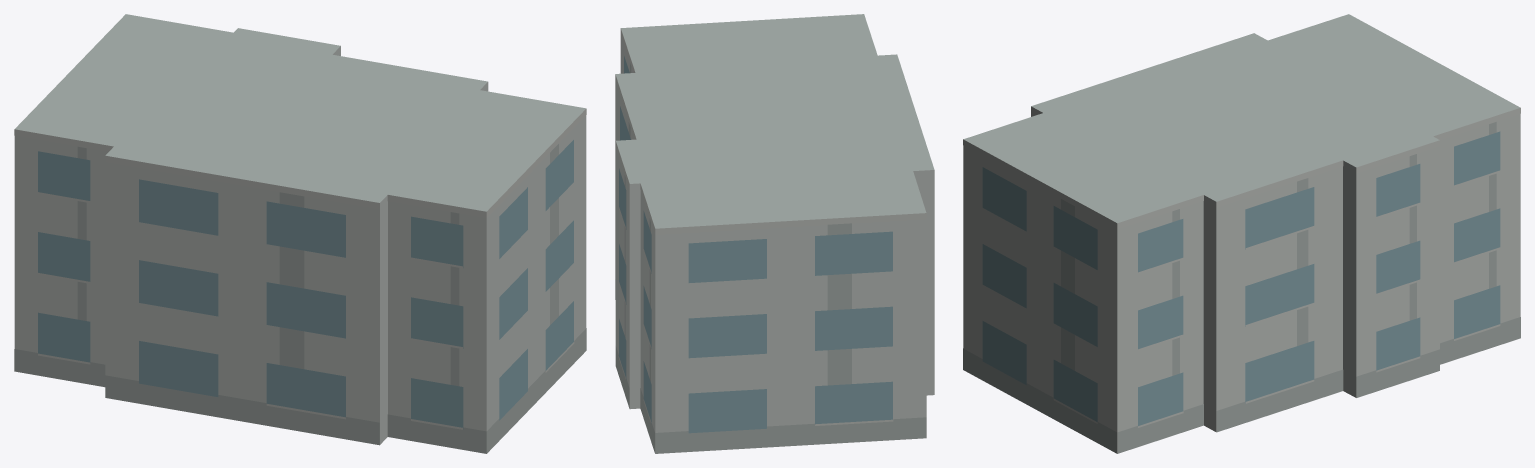
File: residential-d21850de-b6ce-451b-b22e-bd7d23265d44.glb
The picture shows the model from 3 angles, left to right: view 1: azimuth 30°, elevation 25°; view 2: azimuth 150°, elevation 25°; view 3: azimuth 270°, elevation 25°; orthographic projection. The views are drawn at different scales.
Visible parts, largest first — view 1: residential-d21850de-b6ce-451b-b22e-bd7d23265d44.tmp; view 2: residential-d21850de-b6ce-451b-b22e-bd7d23265d44.tmp; view 3: residential-d21850de-b6ce-451b-b22e-bd7d23265d44.tmp.
Boxes of the visible parts, left/top/right/bottom form: residential-d21850de-b6ce-451b-b22e-bd7d23265d44.tmp: left=14, top=14, right=586, bottom=453; residential-d21850de-b6ce-451b-b22e-bd7d23265d44.tmp: left=615, top=14, right=934, bottom=453; residential-d21850de-b6ce-451b-b22e-bd7d23265d44.tmp: left=963, top=14, right=1520, bottom=453.
Size of the model in its own units: 17.82 by 9.15 by 20.06.
